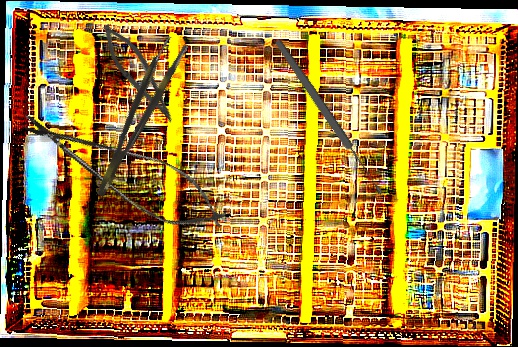Micro Scissor: (7, 97, 240, 247), (90, 17, 188, 129)
Surgical Spoon: (271, 36, 387, 199)
Tissue Forceps: (82, 34, 190, 199)
